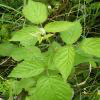Raspberry leaf: (35, 75, 71, 99), (54, 45, 75, 83), (5, 60, 47, 78), (22, 0, 48, 26), (59, 18, 82, 45), (8, 25, 44, 41), (43, 19, 77, 34), (80, 37, 99, 58)
